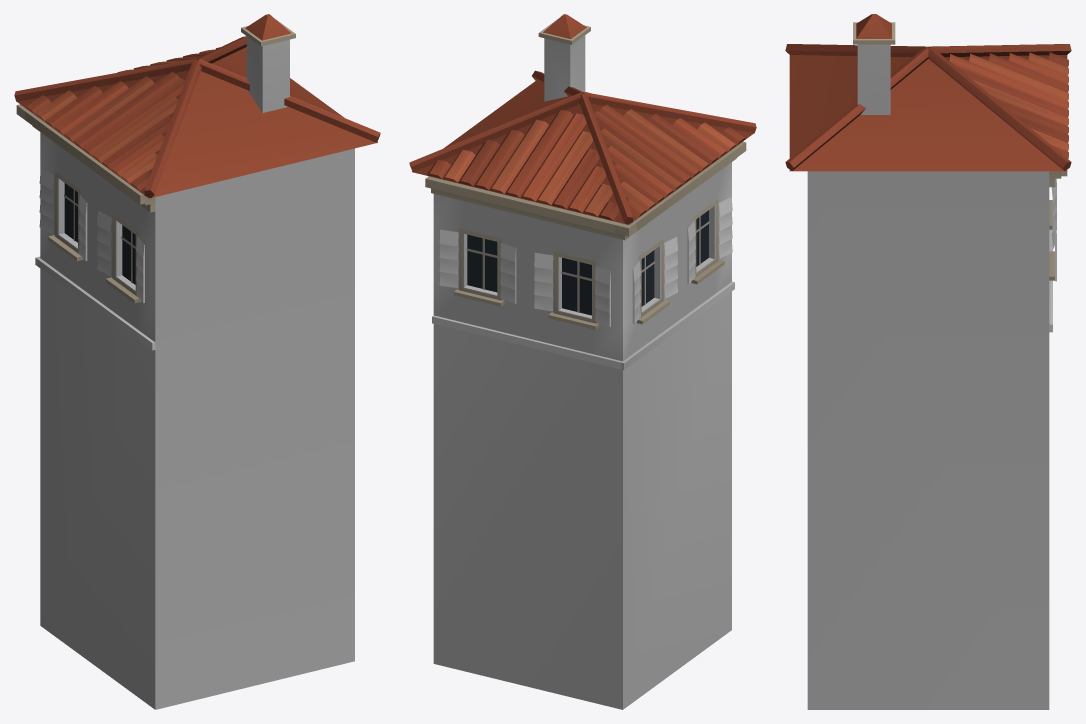
File: plaza-corner.glb
3 views of the same model, side by side, from view 1: azimuth 30°, elevation 25°; view 2: azimuth 150°, elevation 25°; view 3: azimuth 270°, elevation 25° (orthographic). The views are drawn at different scales.
Visible parts, largest first — view 1: stucco, trim, shutters; view 2: stucco, trim, shutters; view 3: stucco, trim.
Boxes of the visible parts, x1,y1,x2,y2 form: stucco: (35, 36, 354, 709); trim: (14, 14, 380, 303); shutters: (39, 169, 144, 303); stucco: (432, 35, 734, 709); trim: (409, 14, 756, 329); shutters: (439, 197, 732, 326); stucco: (807, 44, 1052, 709); trim: (785, 14, 1071, 280).
Size of the model in its own units: 4.74 by 12.19 by 4.74.
